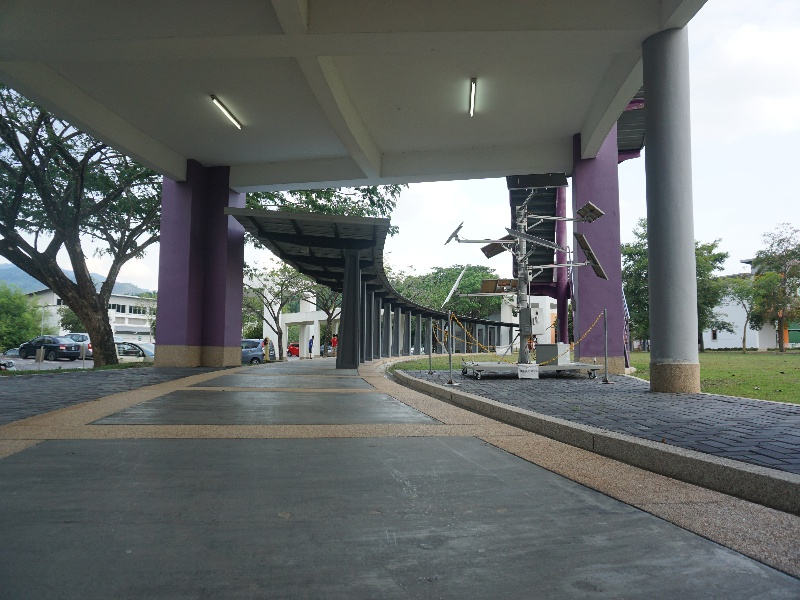Block D Pillar 5: (4, 5, 790, 488)
pillar: (638, 22, 716, 404), (152, 152, 247, 369), (569, 124, 630, 373), (337, 245, 359, 374)
